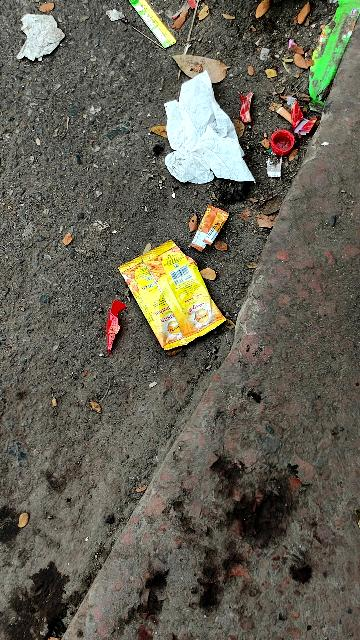packet: (121, 242, 226, 347)
